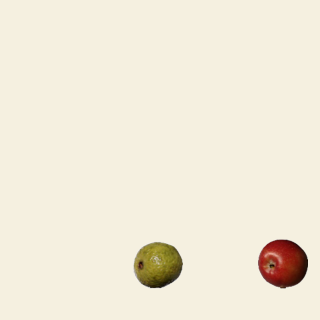Apple Braeburn: (257, 238, 307, 288)
Guava: (132, 239, 182, 289)
